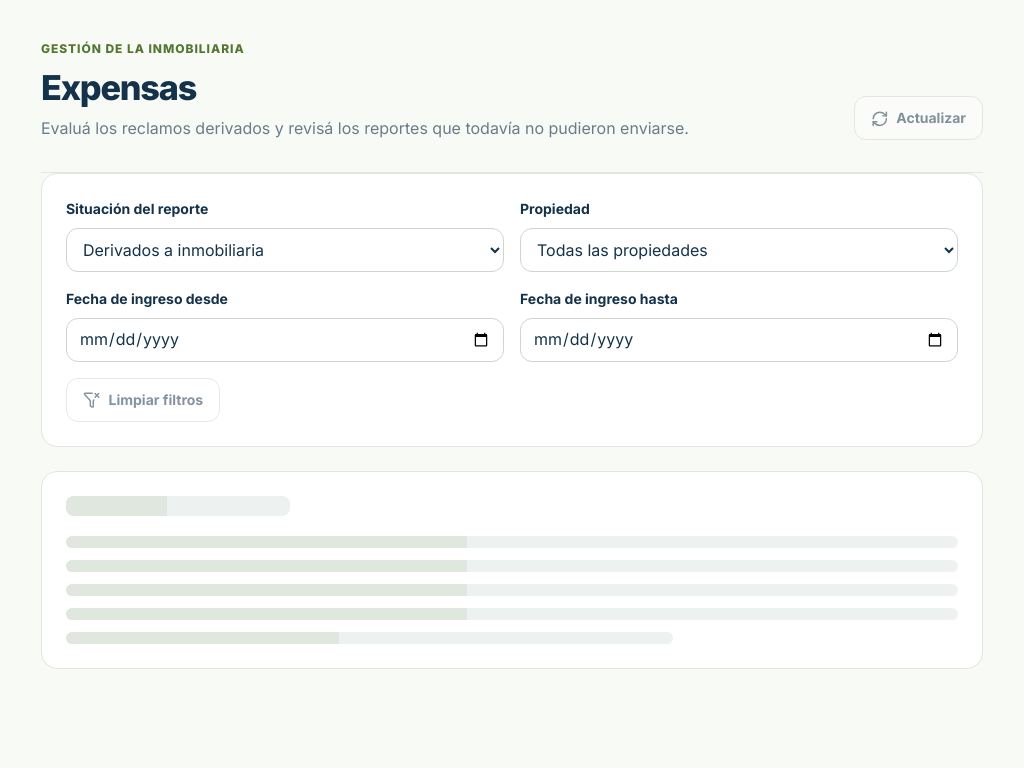
Scenario: HU14 expensas › descarta la respuesta vieja al cambiar la situación
Select "Pendientes de envío" in the dropdown labelled "Situación del reporte" at (285, 250), box [66, 228, 504, 272]
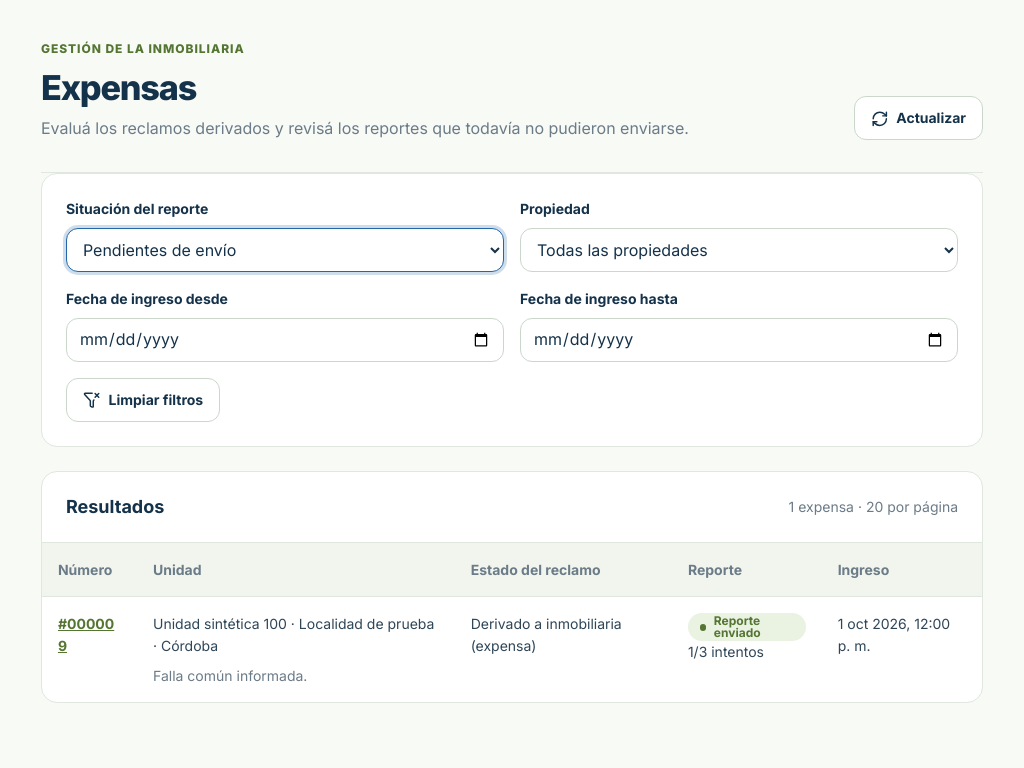
expect the link named "Ver expensa #000009" is shown: met, box [58, 615, 114, 654]
